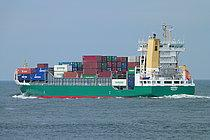Ship: (14, 20, 199, 104)
